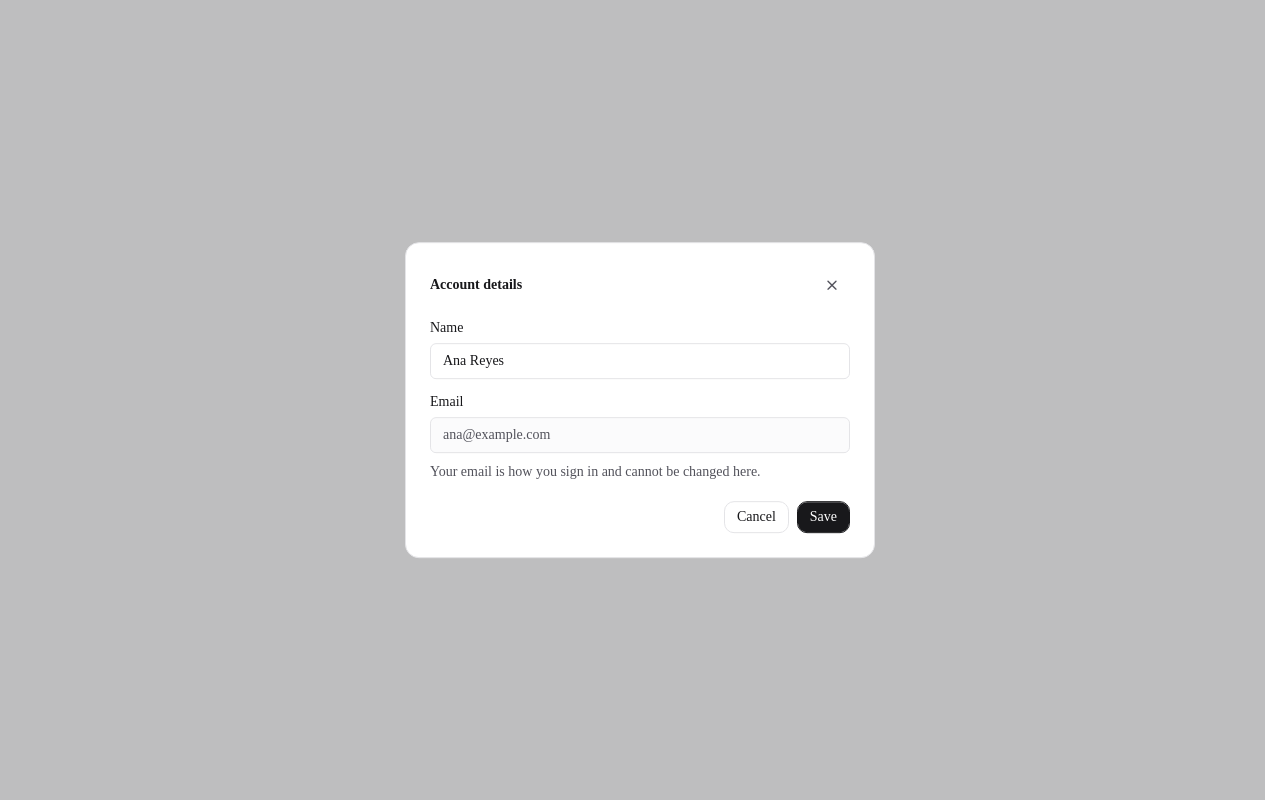
it: the account details dialog › stays open and says why when the save did not land
Replace the text in the field labelled "Name" with "Ana R." at (640, 361), box x1=430 y1=343 x2=850 y2=379
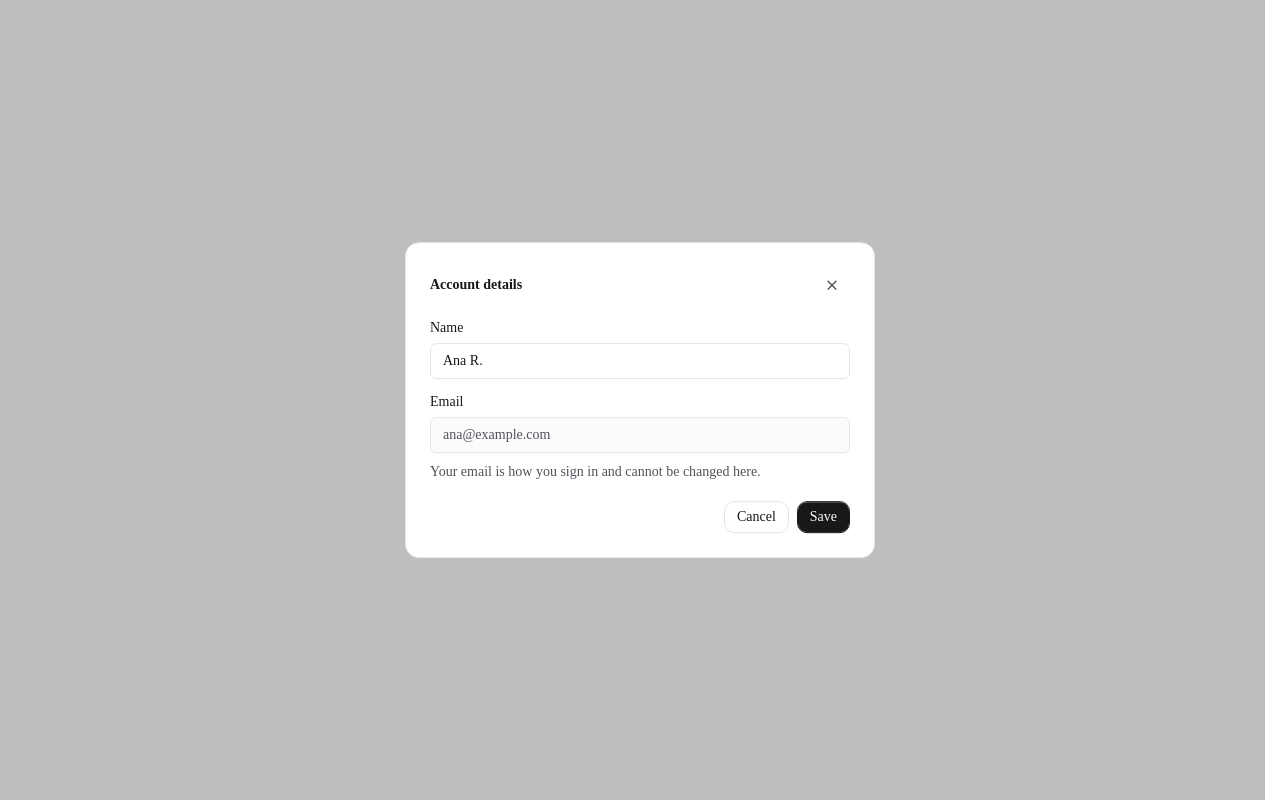
Click the button "Save".
click(823, 517)  # box x1=797 y1=501 x2=850 y2=533
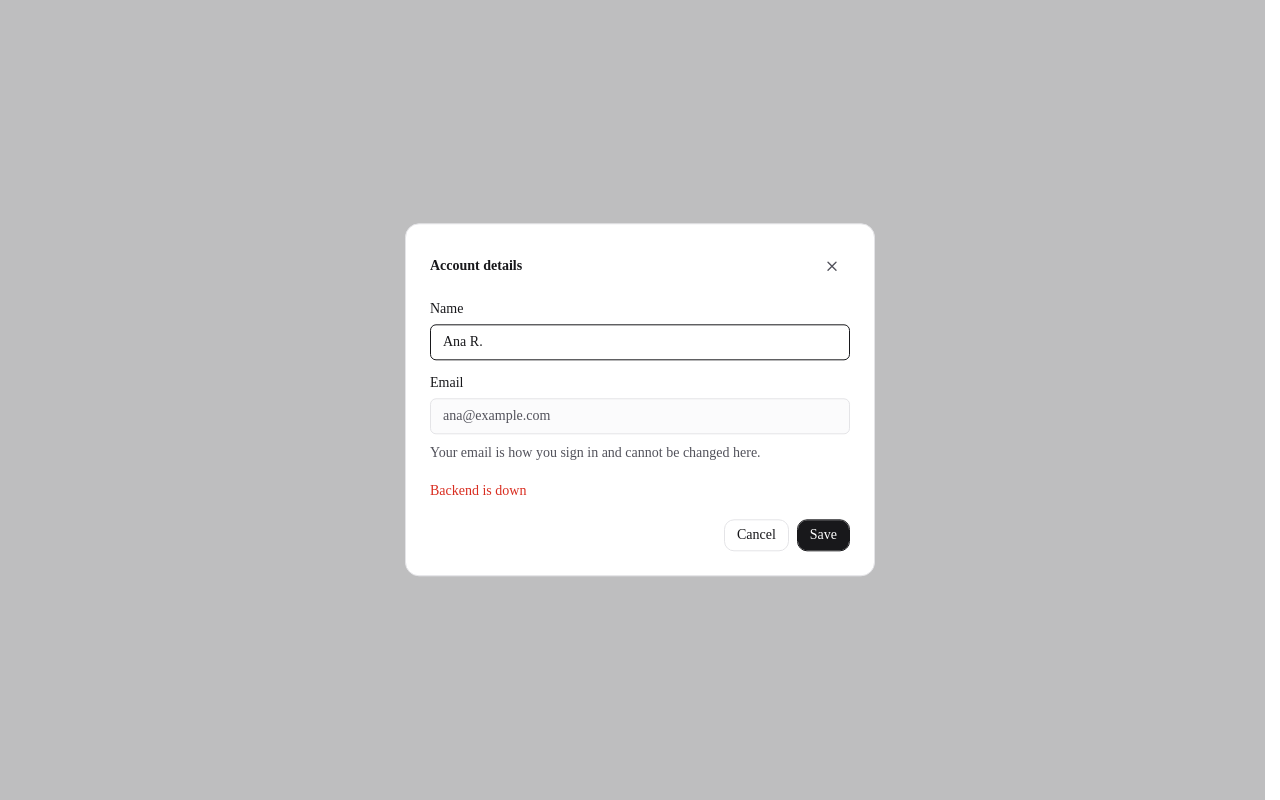
Result: the message reads "Backend is down" at x1=430 y1=483 x2=526 y2=498
